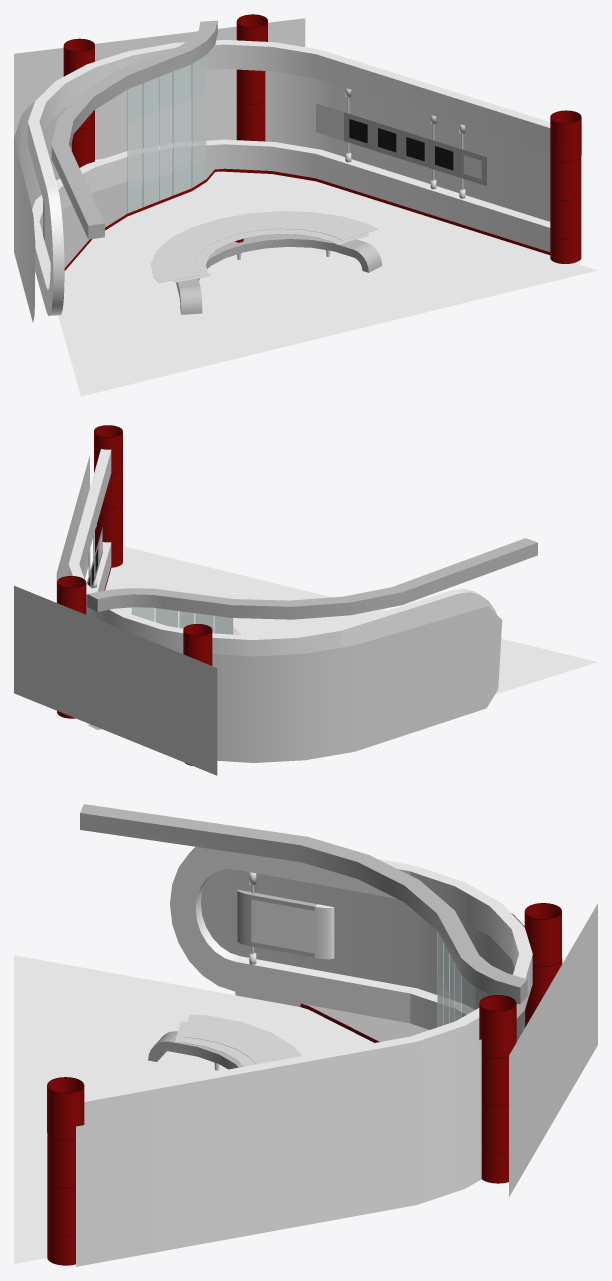
The picture shows the model from 3 angles, top to bottom: view 1: azimuth 30°, elevation 25°; view 2: azimuth 150°, elevation 25°; view 3: azimuth 270°, elevation 25°; orthographic projection. The views are drawn at different scales.
Parts seen in each view (by area): view 1: Group_004, Group_001, Layer0_001, Group#8_001, Group_008, Group_003, Component_2_001, Group_006, Group_1_011, Group#6_001, Group_1_009, Group_1_010 (+6 smaller); view 2: Component_2_001, Layer0_001, Group_001, Group_004, Group#8_001, Group_1_007, Group_1_011, Group_1_003, Group_1_009, Group_1_010, Group_008; view 3: Layer0_001, Group_004, Group_001, Component_2_001, Group#8_001, Group_002, Group_008, Group_1_003, Group_1_011, Group_1_007, Group_1_010, Group_1_009 (+7 smaller).
Boxes of the visible parts, x1=… form: Group_004: x1=58, y1=168, x2=597, y2=396; Group_001: x1=28, y1=40, x2=550, y2=315; Layer0_001: x1=14, y1=18, x2=550, y2=221; Group#8_001: x1=51, y1=20, x2=217, y2=239; Group_008: x1=150, y1=211, x2=377, y2=282; Group_003: x1=316, y1=103, x2=486, y2=185; Component_2_001: x1=14, y1=91, x2=71, y2=322; Group_006: x1=176, y1=234, x2=382, y2=314; Group_1_011: x1=550, y1=110, x2=581, y2=161; Group#6_001: x1=172, y1=229, x2=369, y2=282; Group_1_009: x1=550, y1=195, x2=581, y2=238; Group_1_010: x1=550, y1=156, x2=581, y2=200; Component_2_001: x1=212, y1=606, x2=502, y2=762; Layer0_001: x1=14, y1=455, x2=217, y2=775; Group_001: x1=68, y1=449, x2=501, y2=656; Group_004: x1=88, y1=546, x2=597, y2=729; Group#8_001: x1=87, y1=538, x2=537, y2=634; Group_1_007: x1=183, y1=623, x2=212, y2=665; Group_1_011: x1=94, y1=425, x2=122, y2=472; Group_1_003: x1=57, y1=576, x2=86, y2=614; Group_1_009: x1=95, y1=503, x2=122, y2=544; Group_1_010: x1=94, y1=468, x2=122, y2=508; Group_008: x1=181, y1=612, x2=228, y2=633; Layer0_001: x1=76, y1=903, x2=597, y2=1266; Group_004: x1=14, y1=955, x2=428, y2=1263; Group_001: x1=84, y1=847, x2=532, y2=1124; Component_2_001: x1=201, y1=869, x2=524, y2=1041; Group#8_001: x1=80, y1=804, x2=527, y2=1027; Group_002: x1=237, y1=889, x2=334, y2=959; Group_008: x1=183, y1=1014, x2=301, y2=1064; Group_1_003: x1=479, y1=995, x2=516, y2=1058; Group_1_011: x1=47, y1=1077, x2=84, y2=1140; Group_1_007: x1=524, y1=903, x2=561, y2=966; Group_1_010: x1=47, y1=1134, x2=75, y2=1187; Group_1_009: x1=47, y1=1181, x2=75, y2=1234.
Size of the model in its own units: 795 by 214 by 629.
